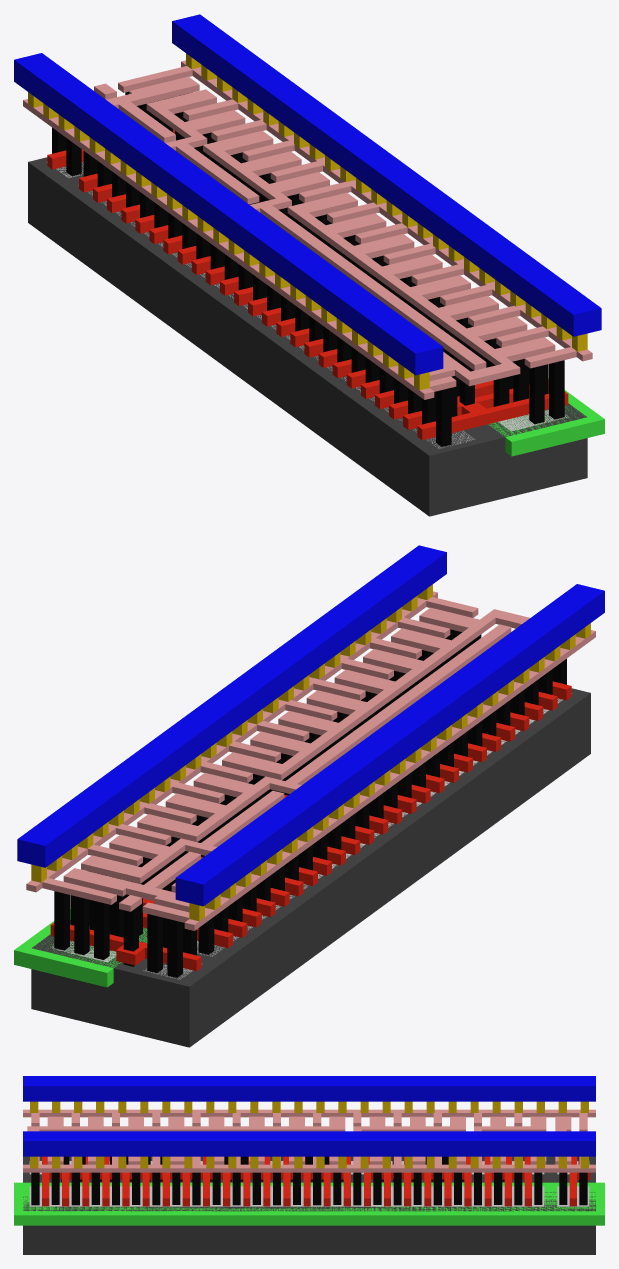
The model's file is sky130_fd_sc_hd__bufbuf_16.obj.
3 renders of one model, top to bottom at view 1: azimuth 30°, elevation 25°; view 2: azimuth 150°, elevation 25°; view 3: azimuth 270°, elevation 25°, orthographic. The views are drawn at different scales.
Visible parts, largest first — view 1: metal1, li, subs, licon, poly, mcon, nwell; view 2: metal1, li, subs, licon, poly, mcon, nwell, diff; view 3: metal1, subs, li, nwell, licon, poly, mcon, tap.
Boxes of the visible parts, box(x1,y1,x2,y2) form: metal1: box(14, 14, 601, 375); li: box(23, 60, 592, 399); subs: box(28, 157, 587, 516); licon: box(52, 91, 564, 446); poly: box(47, 129, 568, 440); mcon: box(28, 53, 587, 390); nwell: box(488, 378, 604, 456); metal1: box(17, 545, 604, 906); li: box(26, 591, 595, 930); subs: box(31, 688, 590, 1047); licon: box(54, 629, 566, 977); poly: box(50, 681, 571, 971); mcon: box(31, 584, 590, 921); nwell: box(14, 909, 147, 987); diff: box(143, 693, 571, 979); metal1: box(23, 1076, 595, 1156); subs: box(23, 1156, 595, 1254); li: box(23, 1109, 595, 1172); nwell: box(14, 1182, 604, 1225); licon: box(31, 1156, 587, 1205); poly: box(42, 1156, 590, 1206); mcon: box(30, 1101, 588, 1168); tap: box(29, 1186, 589, 1206).
Size of the model in its own units: 3.2 by 2.74 by 12.34.
